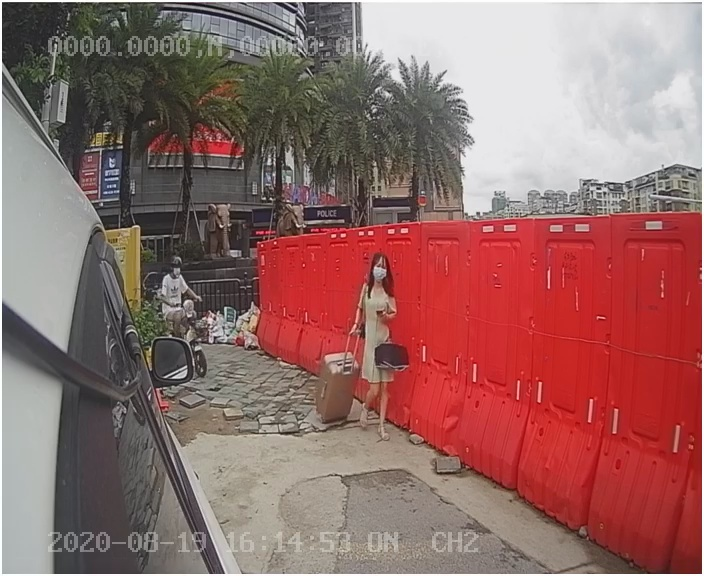person: (346, 247, 407, 443)
